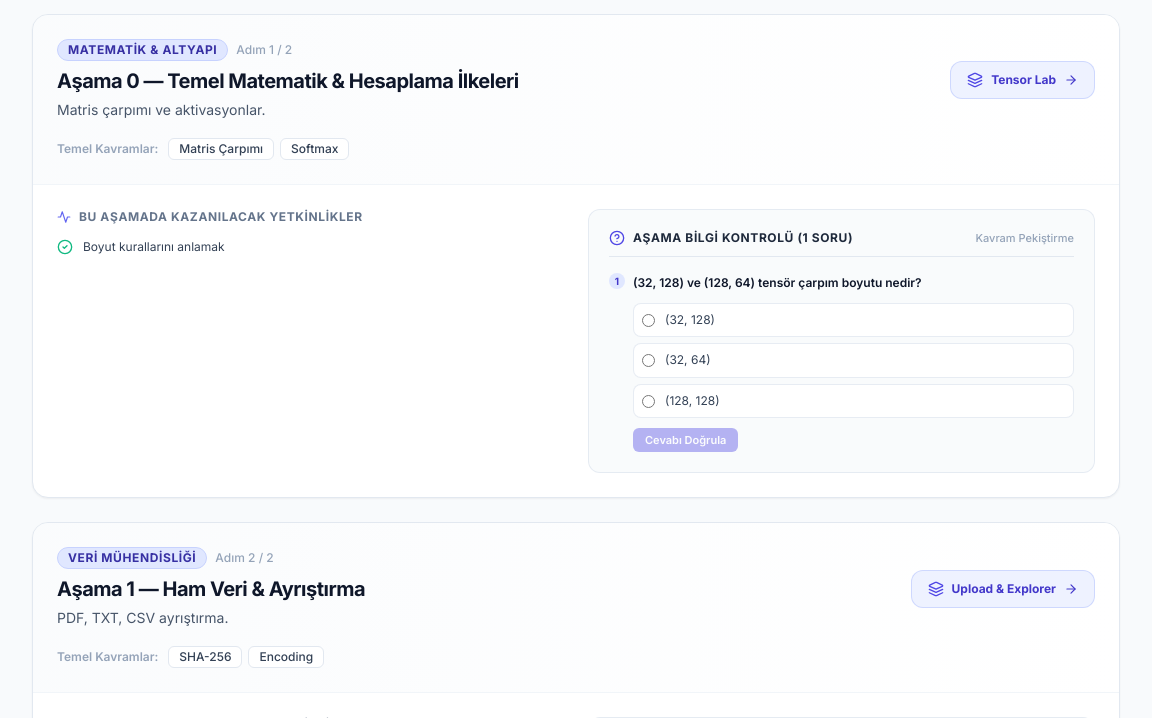
Test: JourneyPage Component › loads curriculum stages and handles milestone question checking
(page scrolled)
Expected: the heading "Aşama 0 — Temel Matematik & Hesaplama İlkeleri" is shown, [57,67,519,95]
Expected: the heading "Aşama 1 — Ham Veri & Ayrıştırma" is shown, [57,575,365,603]
Click the radio button labelled "(32, 64)": (648, 361) [642,354,655,367]
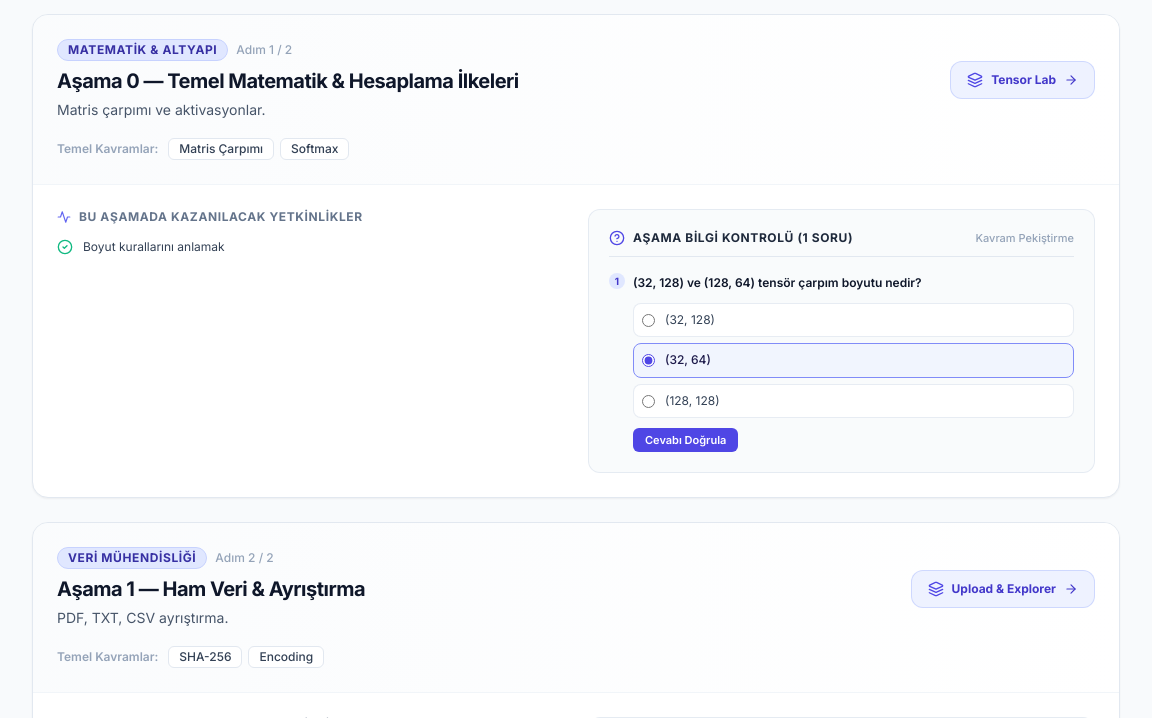
Click the button "Cevabı Doğrula": (686, 440) [633,428,738,452]
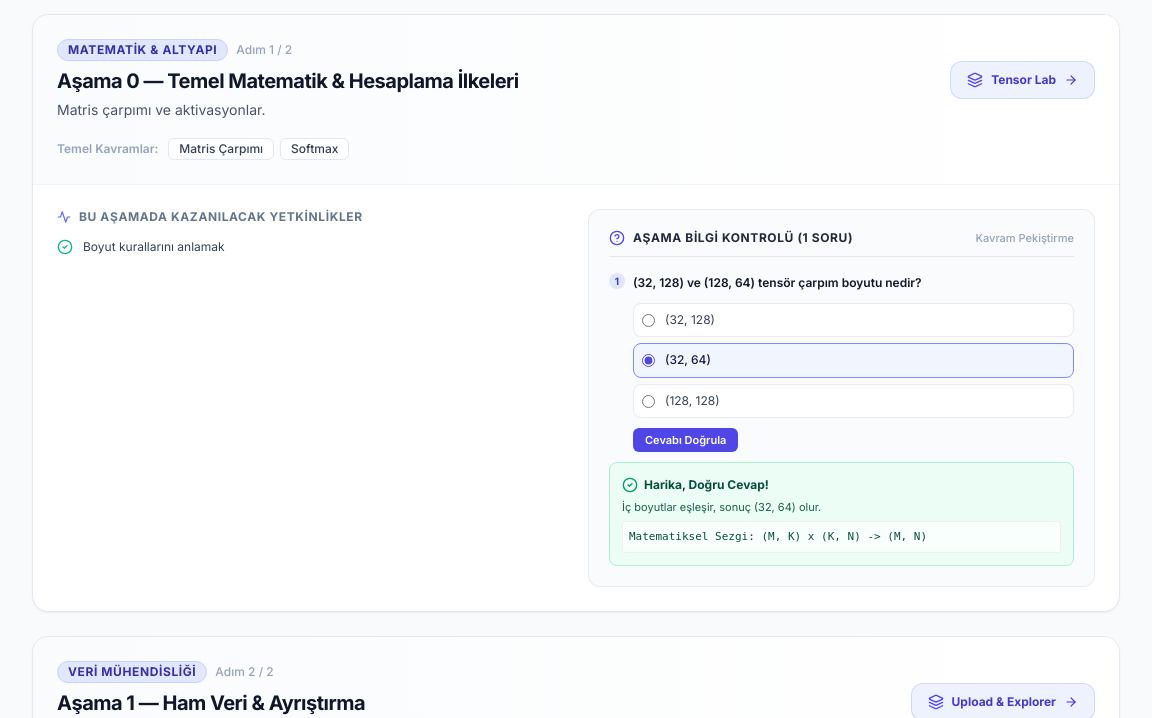
Expected: the text "Harika, Doğru Cevap!" is shown, [644,475,769,495]
Expected: the text "İç boyutlar eşleşir, sonuç (32, 64) olur." is shown, [622,500,821,514]
